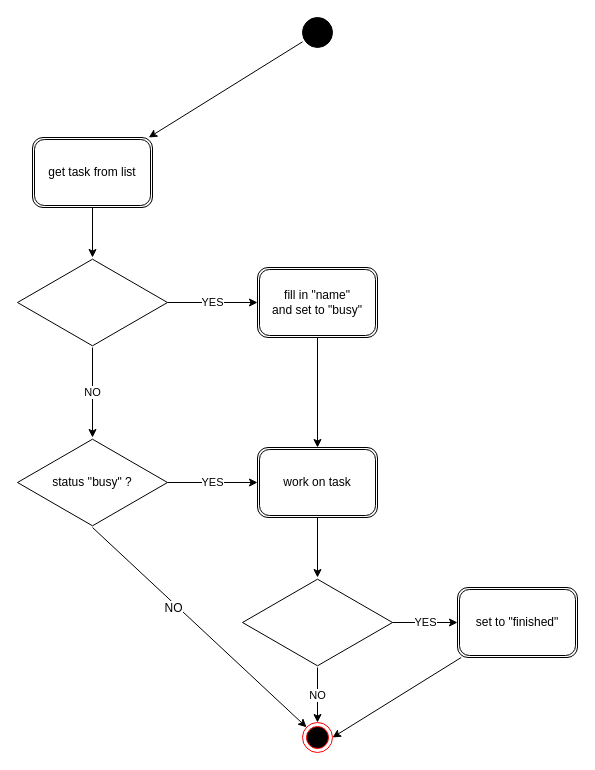
Image size: 595x770. Some labels were removed from this diagram. Here are the shapes that lost their labels. From the top down, the box of each, then its label:
(16, 256, 168, 348): status ''new" ?
(242, 576, 392, 668): task finished ?
